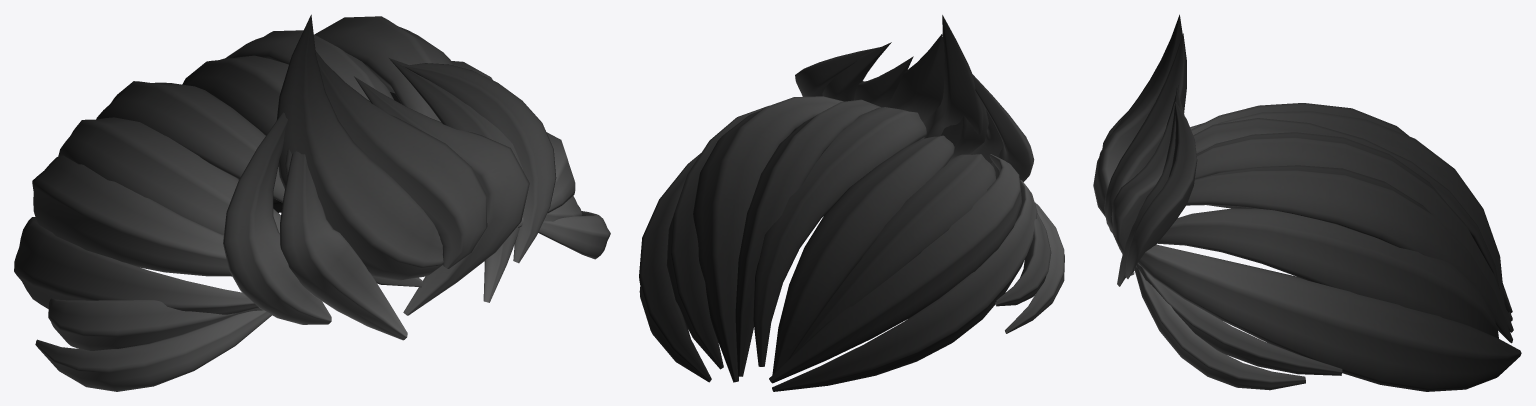
File: hairc3.fbx
3 views of the same model, side by side, from view 1: azimuth 30°, elevation 25°; view 2: azimuth 150°, elevation 25°; view 3: azimuth 270°, elevation 25° (orthographic). The views are drawn at different scales.
Visible parts, largest first — view 1: NurbsPath.027; view 2: NurbsPath.027; view 3: NurbsPath.027.
Part boxes in pixels (x1,y1,x2,y2): NurbsPath.027: (14,14,610,391); NurbsPath.027: (639,15,1064,391); NurbsPath.027: (1093,14,1521,391).
Size of the model in its own units: 249 by 267 by 193.
